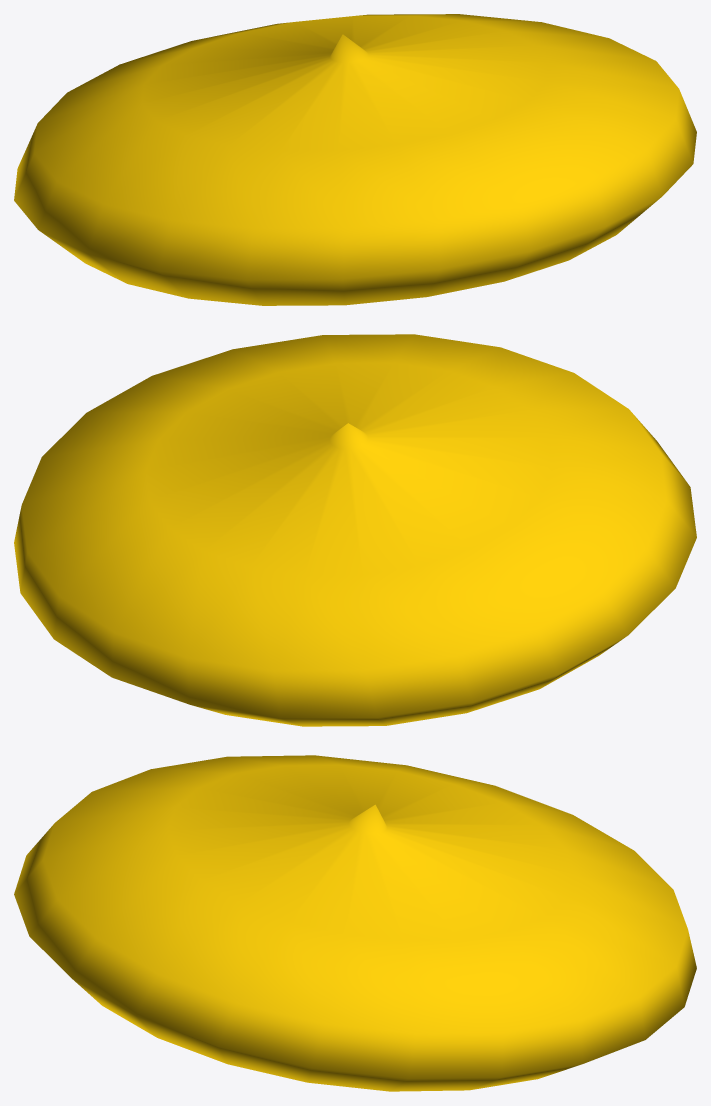
Rendered from Beret.fbx.
3 renders of one model, top to bottom at view 1: azimuth 30°, elevation 25°; view 2: azimuth 150°, elevation 25°; view 3: azimuth 270°, elevation 25°, orthographic.
Visible parts, largest first — view 1: Cylinder; view 2: Cylinder; view 3: Cylinder.
Boxes of the visible parts, x1,y1,x2,y2 form: Cylinder: (14, 14, 696, 305); Cylinder: (14, 334, 696, 726); Cylinder: (14, 755, 696, 1091).
Bounding box in the file's own units: 191 × 60.67 × 191.
